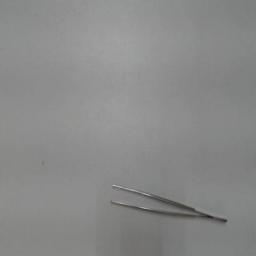Gillies Toothed Dissector: (105, 180, 231, 228)
